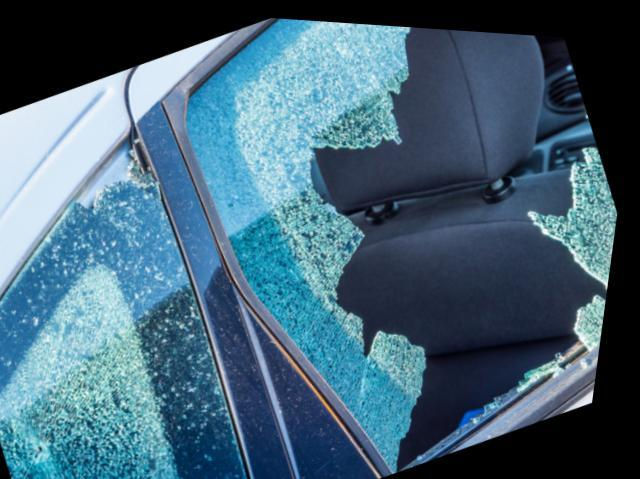glass shatter: (189, 15, 622, 466), (0, 130, 263, 479)
